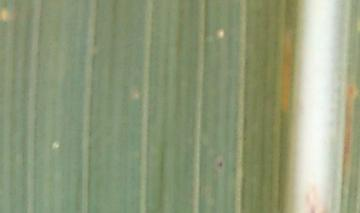tarspot: (216, 160, 224, 168)
